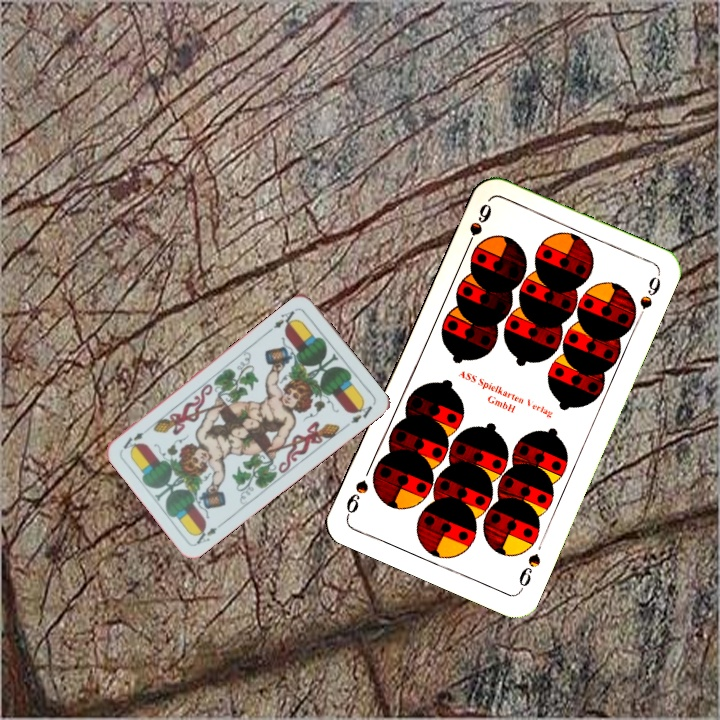EA: (190, 518, 227, 547), (269, 305, 300, 332)
S9: (461, 199, 495, 254), (514, 549, 543, 594)
